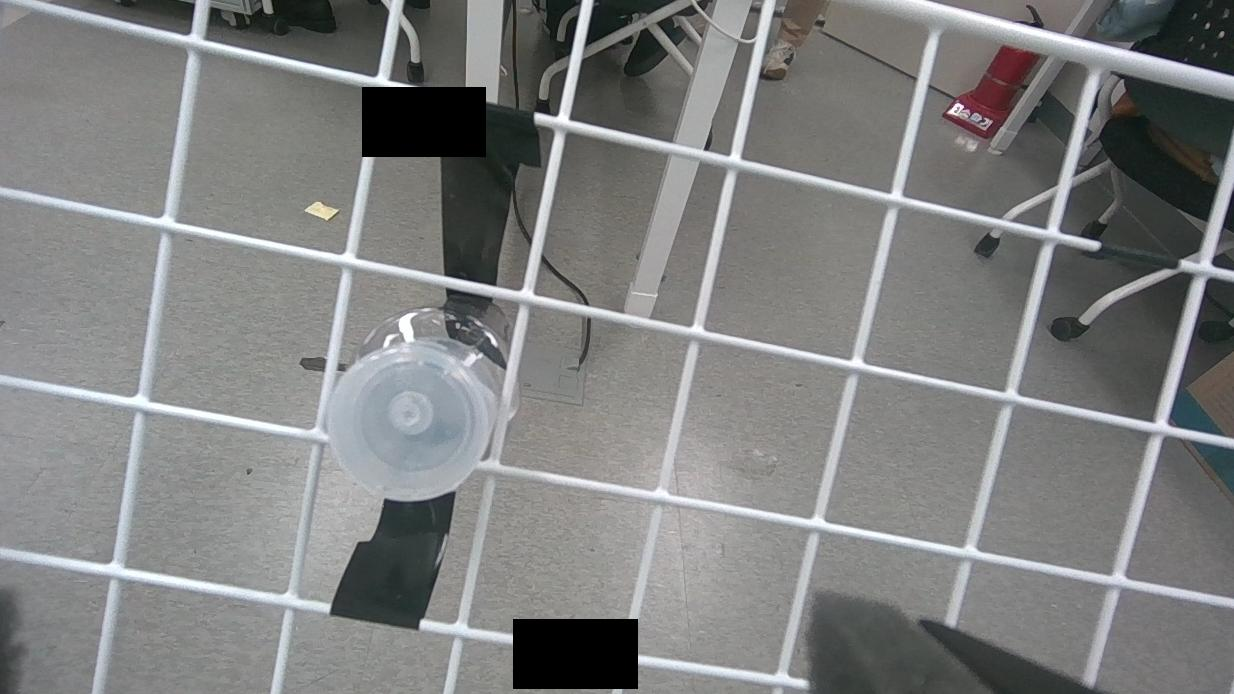Cap: (324, 344, 491, 500)
